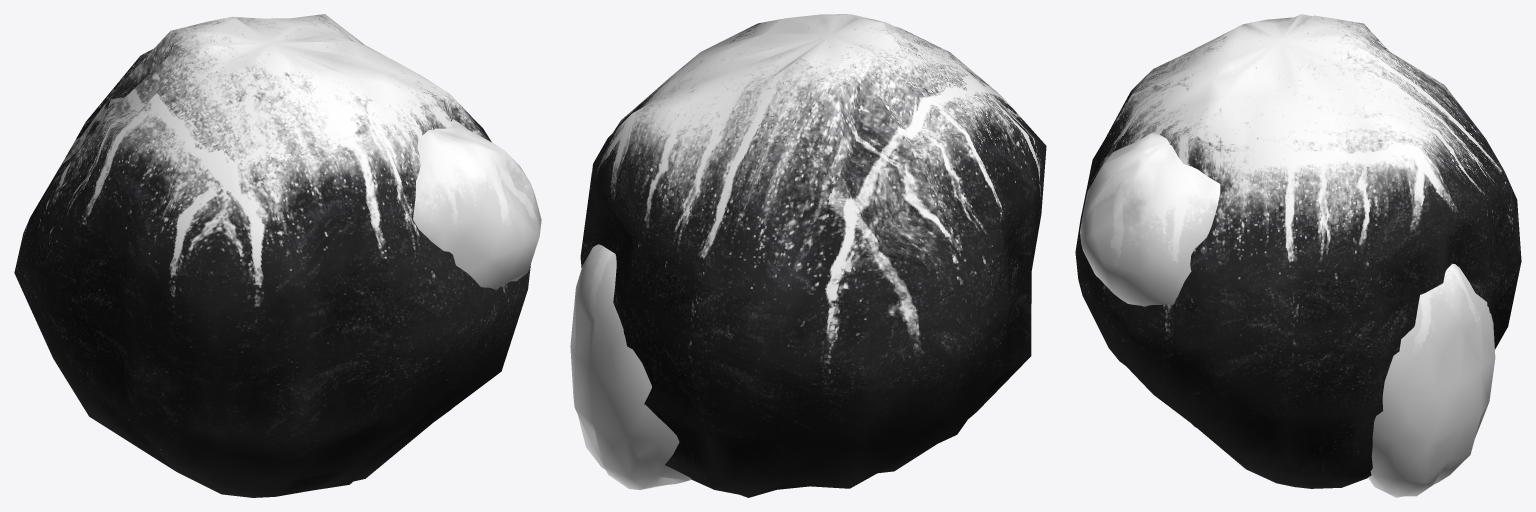
Rendered from mine_stone.fbx.
The picture shows the model from 3 angles, left to right: view 1: azimuth 30°, elevation 25°; view 2: azimuth 150°, elevation 25°; view 3: azimuth 270°, elevation 25°; orthographic projection. The views are drawn at different scales.
Visible parts, largest first — view 1: Sphere001, Sphere002; view 2: Sphere001, Sphere003; view 3: Sphere001, Sphere003, Sphere002.
Boxes of the visible parts, box(x1,y1,x2,y2) form: Sphere001: box(14, 14, 530, 497); Sphere002: box(413, 119, 541, 290); Sphere001: box(580, 14, 1046, 497); Sphere003: box(570, 244, 691, 489); Sphere001: box(1075, 14, 1521, 488); Sphere003: box(1368, 263, 1495, 497); Sphere002: box(1080, 132, 1220, 306).
Bounding box in the file's own units: 140 × 144 × 140.
